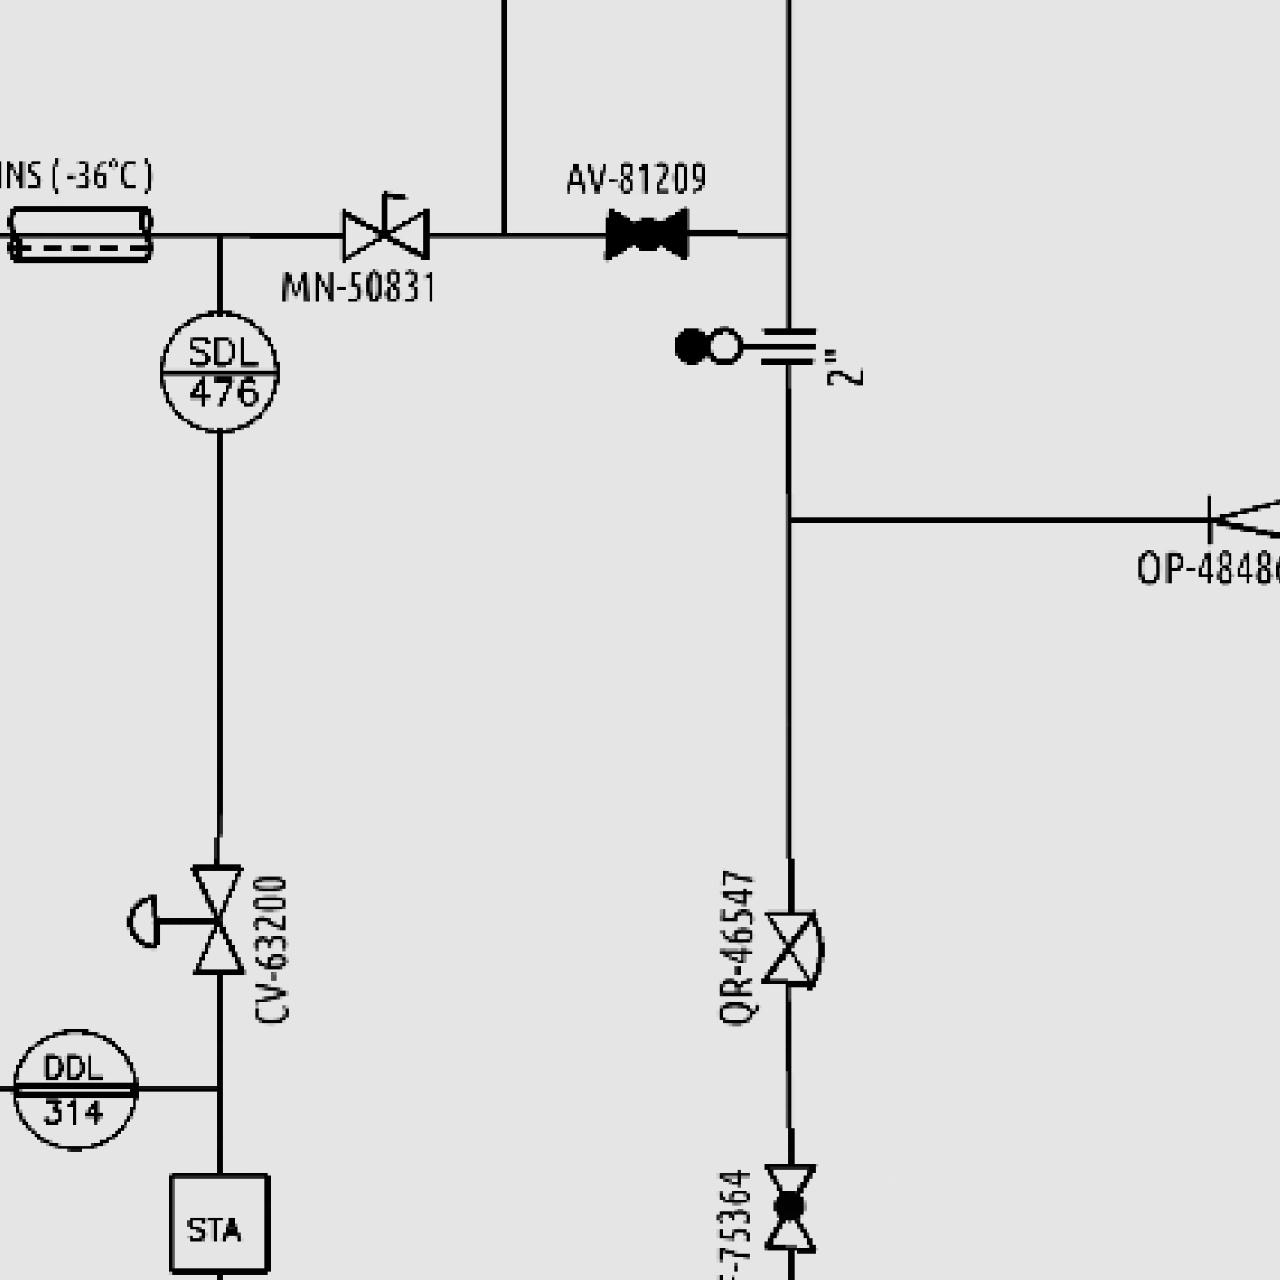Control-Panel: (6, 1021, 142, 1156)
